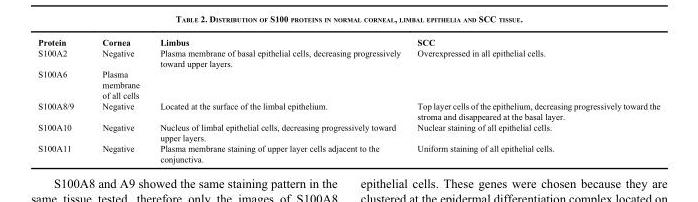table: (37, 36, 659, 163)
table column: (146, 36, 408, 163), (408, 36, 659, 163), (87, 36, 146, 163), (37, 36, 87, 163)
table column header: (37, 36, 659, 47)
table row: (37, 68, 659, 100), (37, 47, 659, 68), (37, 100, 659, 121), (37, 121, 659, 142), (37, 142, 659, 163), (37, 36, 659, 47)
table spanning cell: (87, 68, 659, 100)
